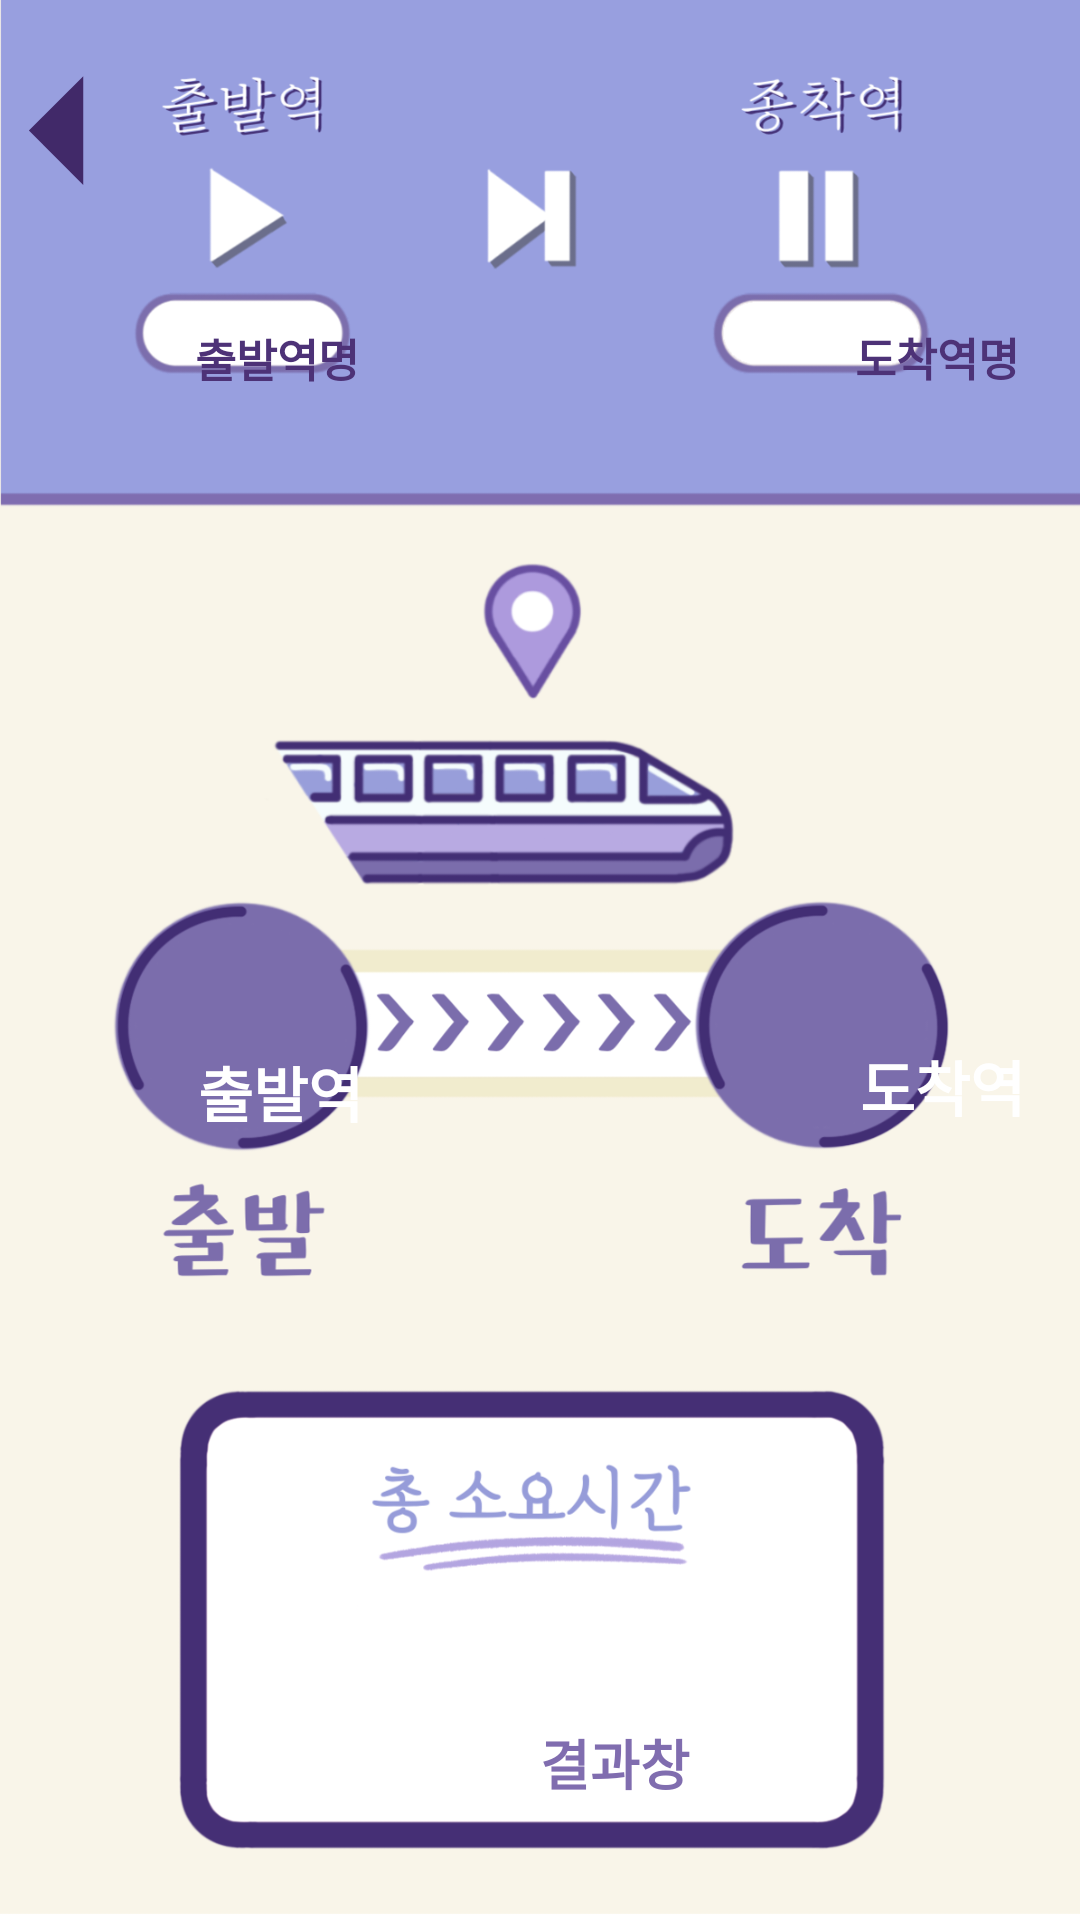

Icon bounding boxes for this 1080×1920 phone screenshot, format region(x1, y1, x2, y2):
back: region(29, 77, 84, 185)
